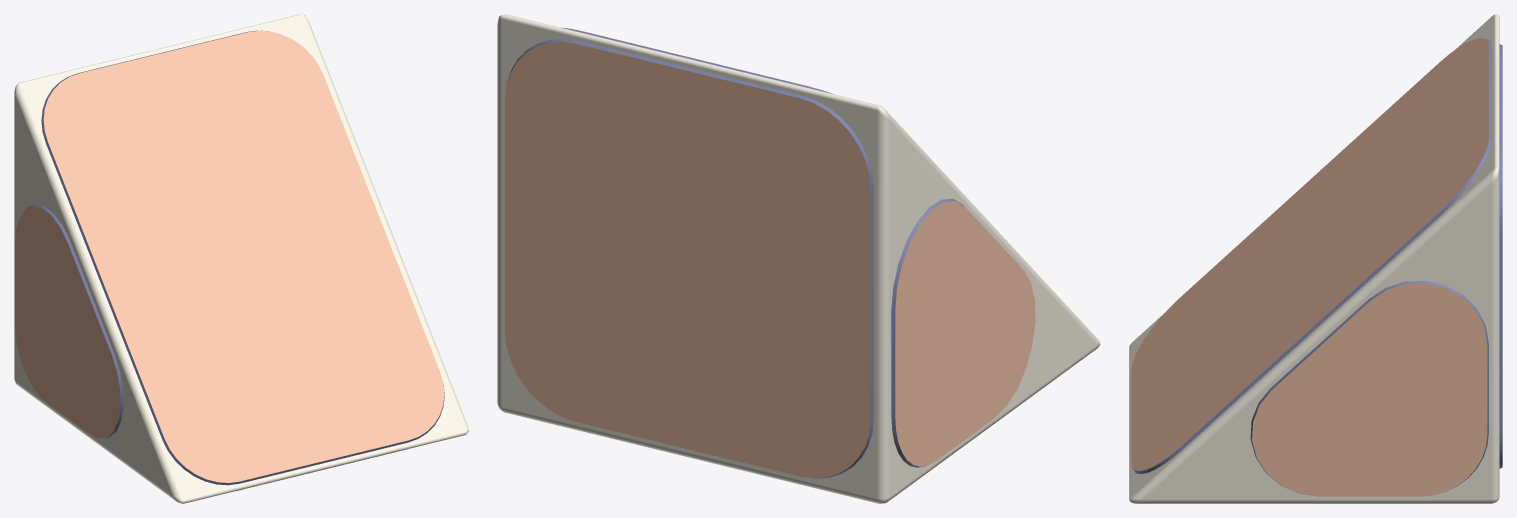
The model's file is R4B_Wedge.fbx.
The picture shows the model from 3 angles, left to right: view 1: azimuth 30°, elevation 25°; view 2: azimuth 150°, elevation 25°; view 3: azimuth 270°, elevation 25°; orthographic projection. The views are drawn at different scales.
Visible parts, largest first — view 1: R4B_Wedge; view 2: R4B_Wedge; view 3: R4B_Wedge.
Part boxes in pixels (x1,y1,x2,y2): R4B_Wedge: (14, 14, 468, 503); R4B_Wedge: (497, 14, 1100, 503); R4B_Wedge: (1129, 14, 1502, 503).
Bounding box in the file's own units: 0.52 × 0.5042 × 0.5042.
